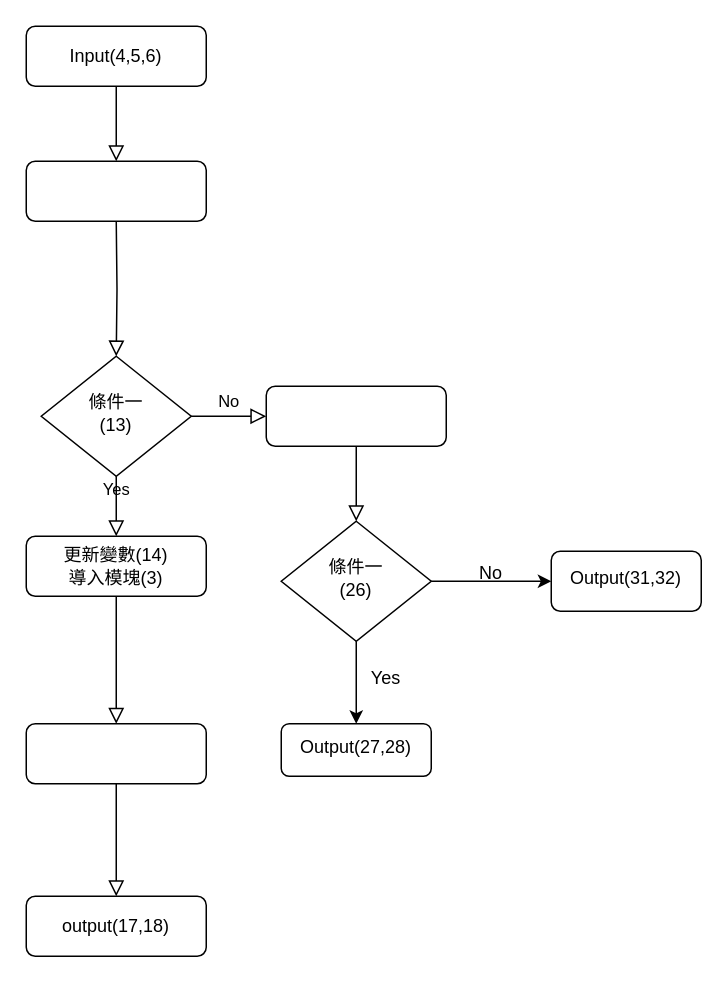
Some shapes in this 728 by 983 pixel diagram are drawn without their labels. The shapes that lost their labels are listed below. From the top down, each one's centre as x and y in pixels, then its label:
At point (115, 190): "設置變數(8)".
At point (355, 415): "設置變數並導入模塊(21,22,23,24)".
At point (115, 753): "設置變數(15,16)".
